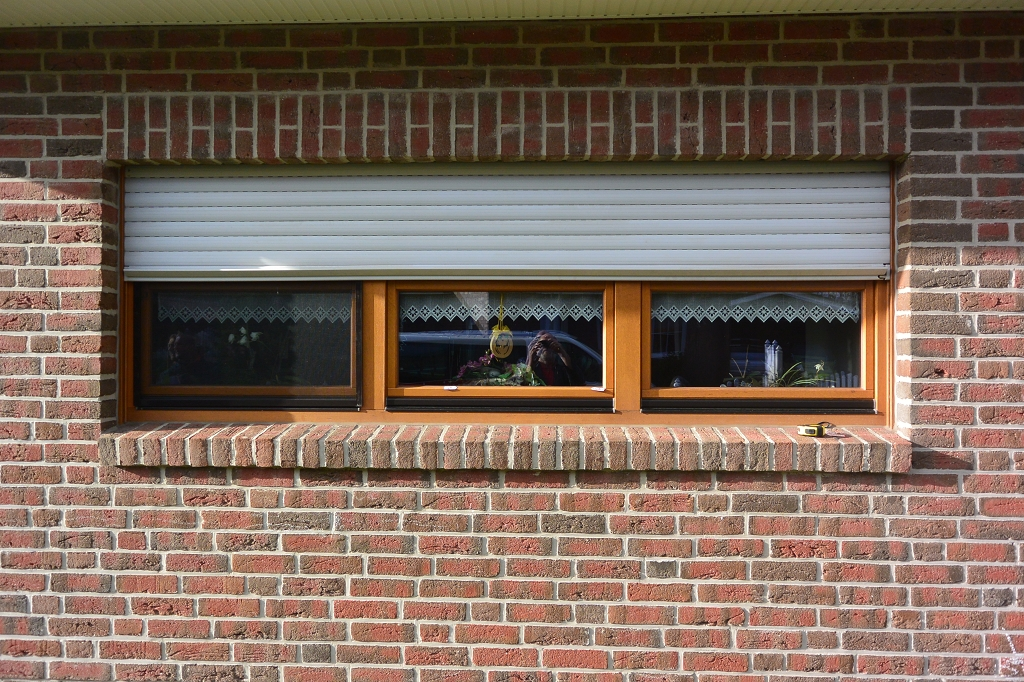windows: (119, 164, 899, 434)
